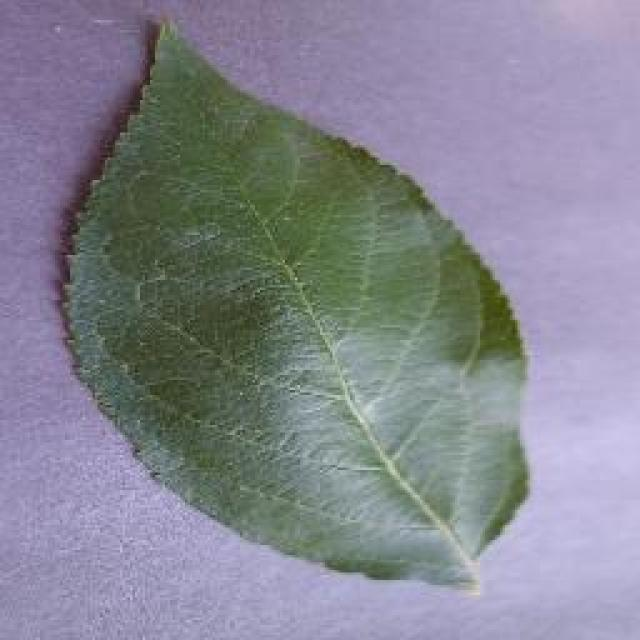apple healthy: (55, 12, 533, 592)
